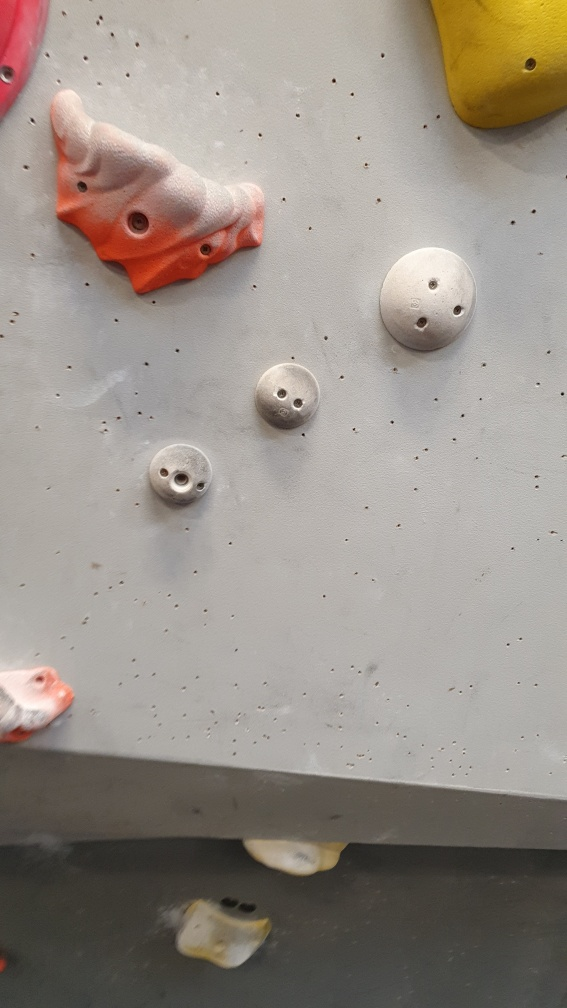Hand Start: (216, 892, 240, 913), (237, 897, 260, 916)
Jug: (43, 82, 268, 302)
Sloper: (377, 243, 479, 357), (253, 362, 323, 434), (147, 441, 215, 511)
